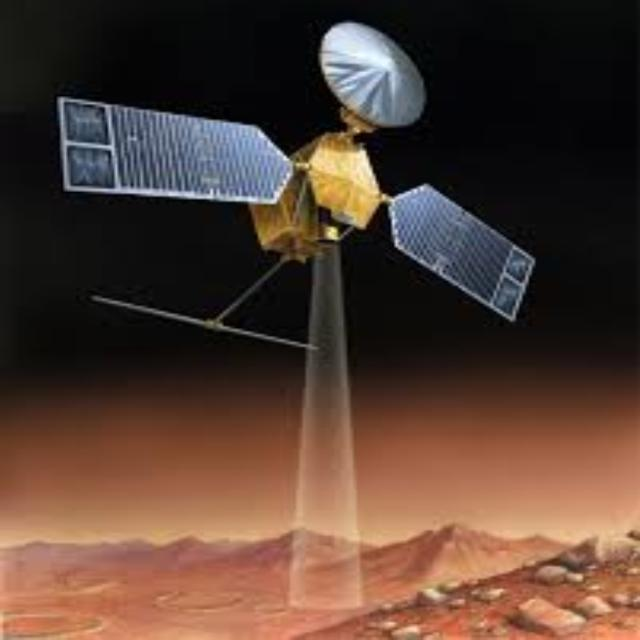satellite: (47, 0, 544, 390)
